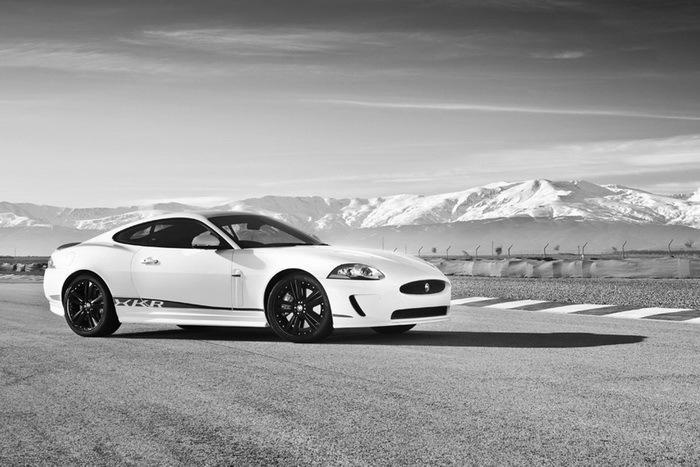car: (43, 213, 452, 345)
